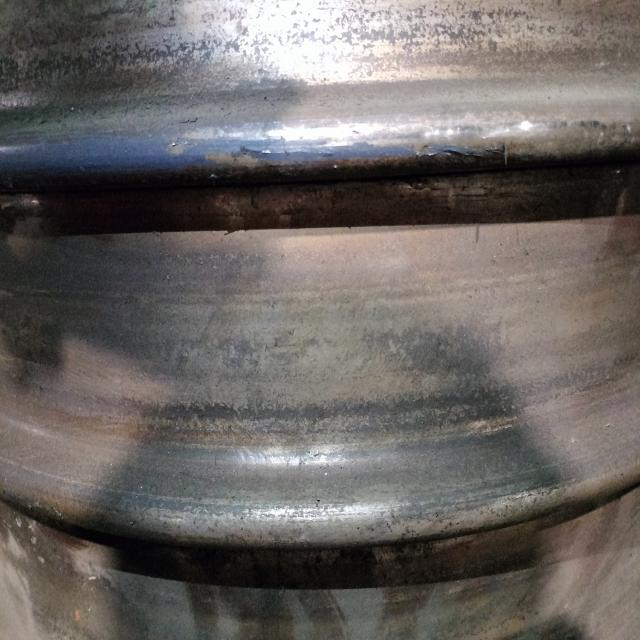Contact_Fatigue_Cracks: (172, 126, 528, 172)
Peeling: (155, 402, 510, 435)
